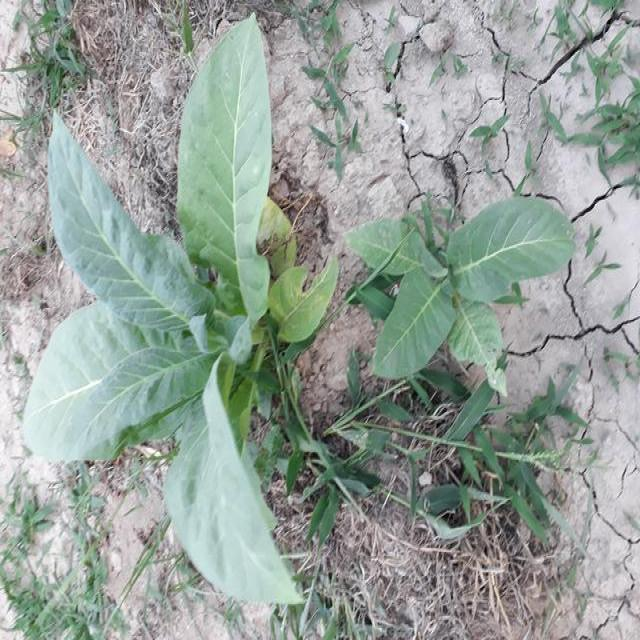crop: (23, 14, 311, 616)
